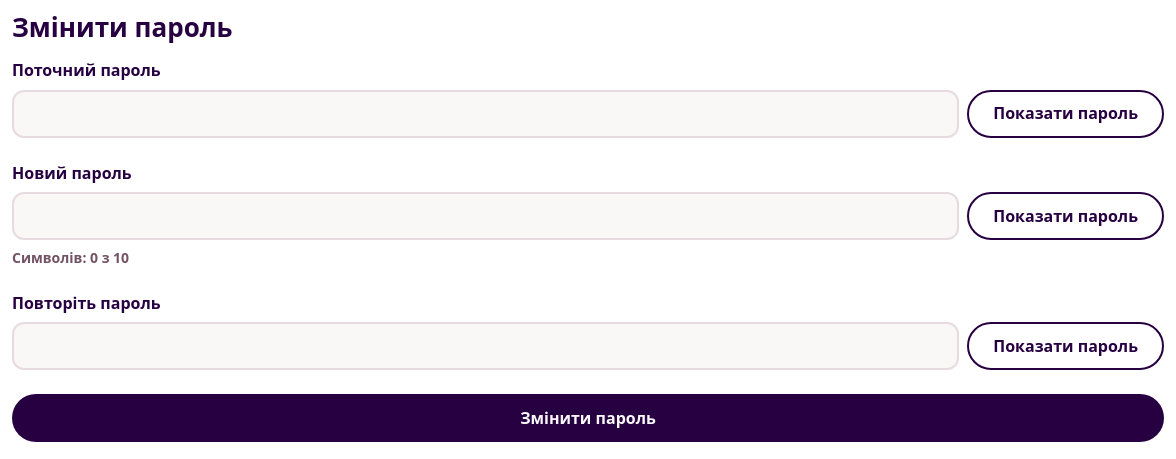
Test: «Змінити пароль» › the server saying there is no password turns the form into that note
Type "старий-пароль-ось" into the password field labelled "Поточний пароль".
click(486, 114); type("старий-пароль-ось")  # box x1=12 y1=90 x2=959 y2=138
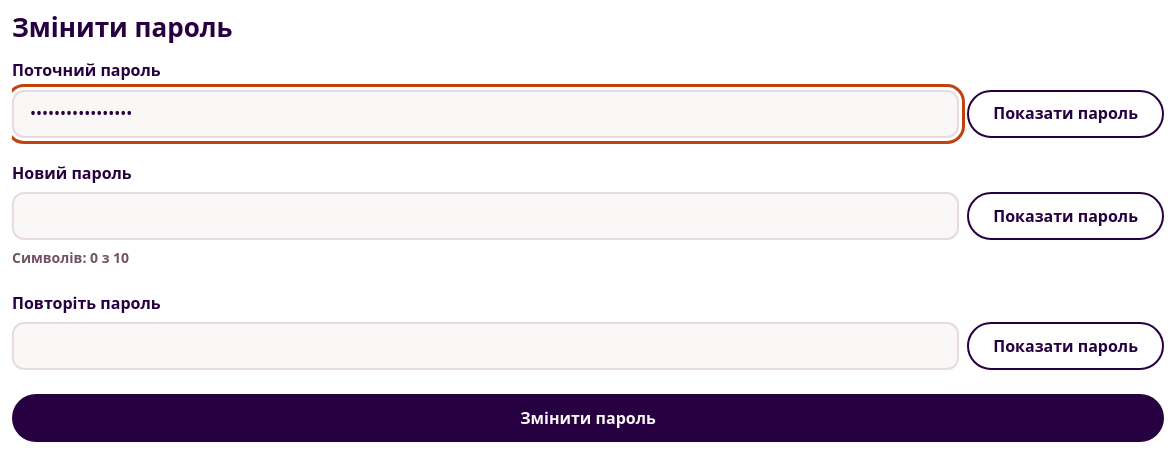
Type "сонячний-ранок-над-Дніпром" into the password field labelled "Новий пароль".
click(486, 216); type("сонячний-ранок-над-Дніпром")  # box x1=12 y1=192 x2=959 y2=240
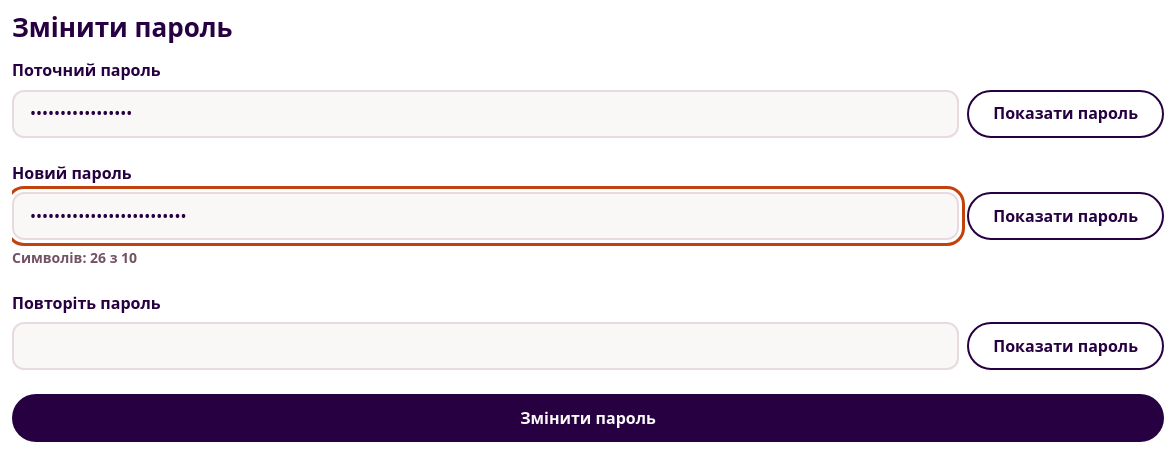
Type "сонячний-ранок-над-Дніпром" into the password field labelled "Повторіть пароль".
click(486, 346); type("сонячний-ранок-над-Дніпром")  # box x1=12 y1=322 x2=959 y2=370
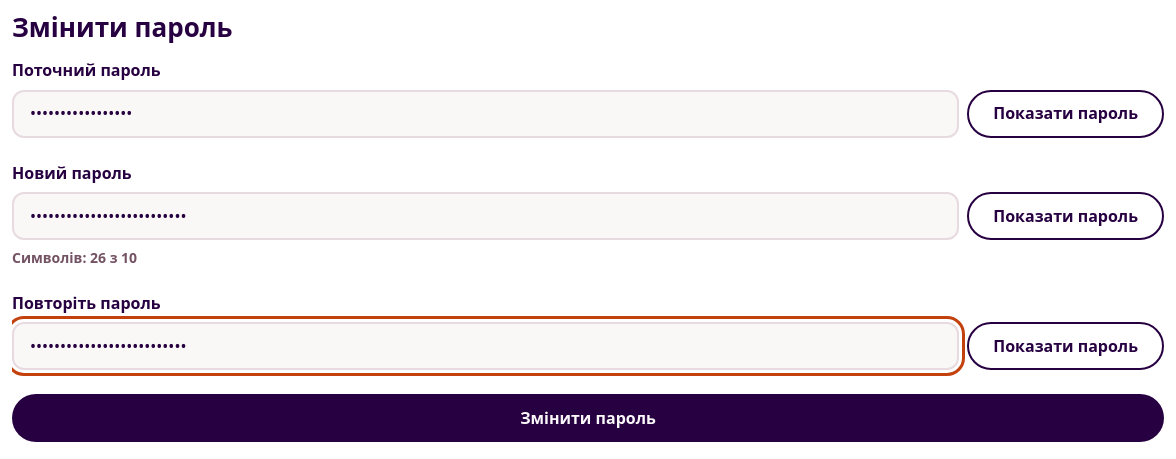
Click the button "Змінити пароль".
click(588, 418)  # box x1=12 y1=394 x2=1164 y2=442
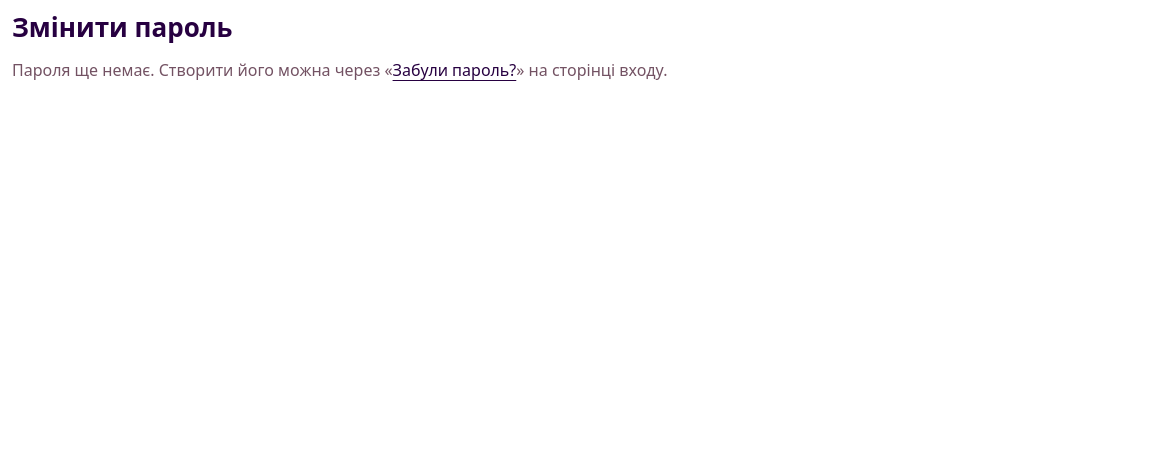
Result: the link "Забули пароль?" is shown at x1=393 y1=59 x2=516 y2=81
